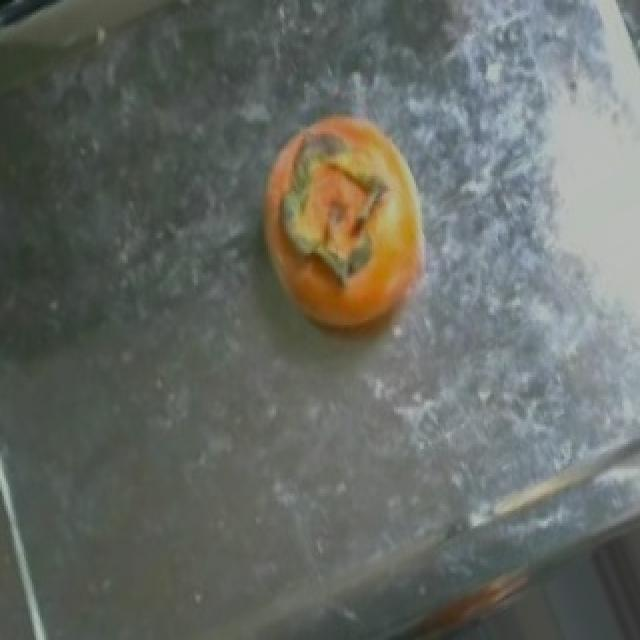Fruit: (240, 94, 446, 355)
